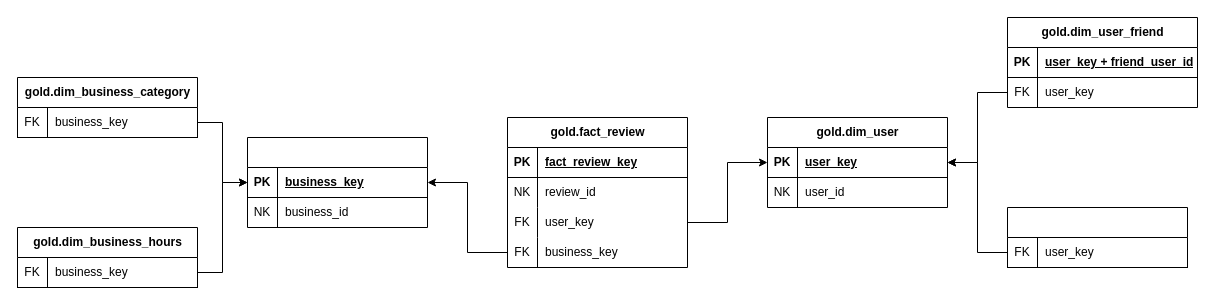
The diagram is 1215 pixels wide and 305 high, and some of its shapes have lost their labels. The shapes that lost their labels are listed below. From the top down, each one's box as (x1, y1, x2, y2) in pixels, then its label:
(246, 136, 428, 228): gold.dim_business
(1006, 206, 1188, 268): gold.dim_user_elite
